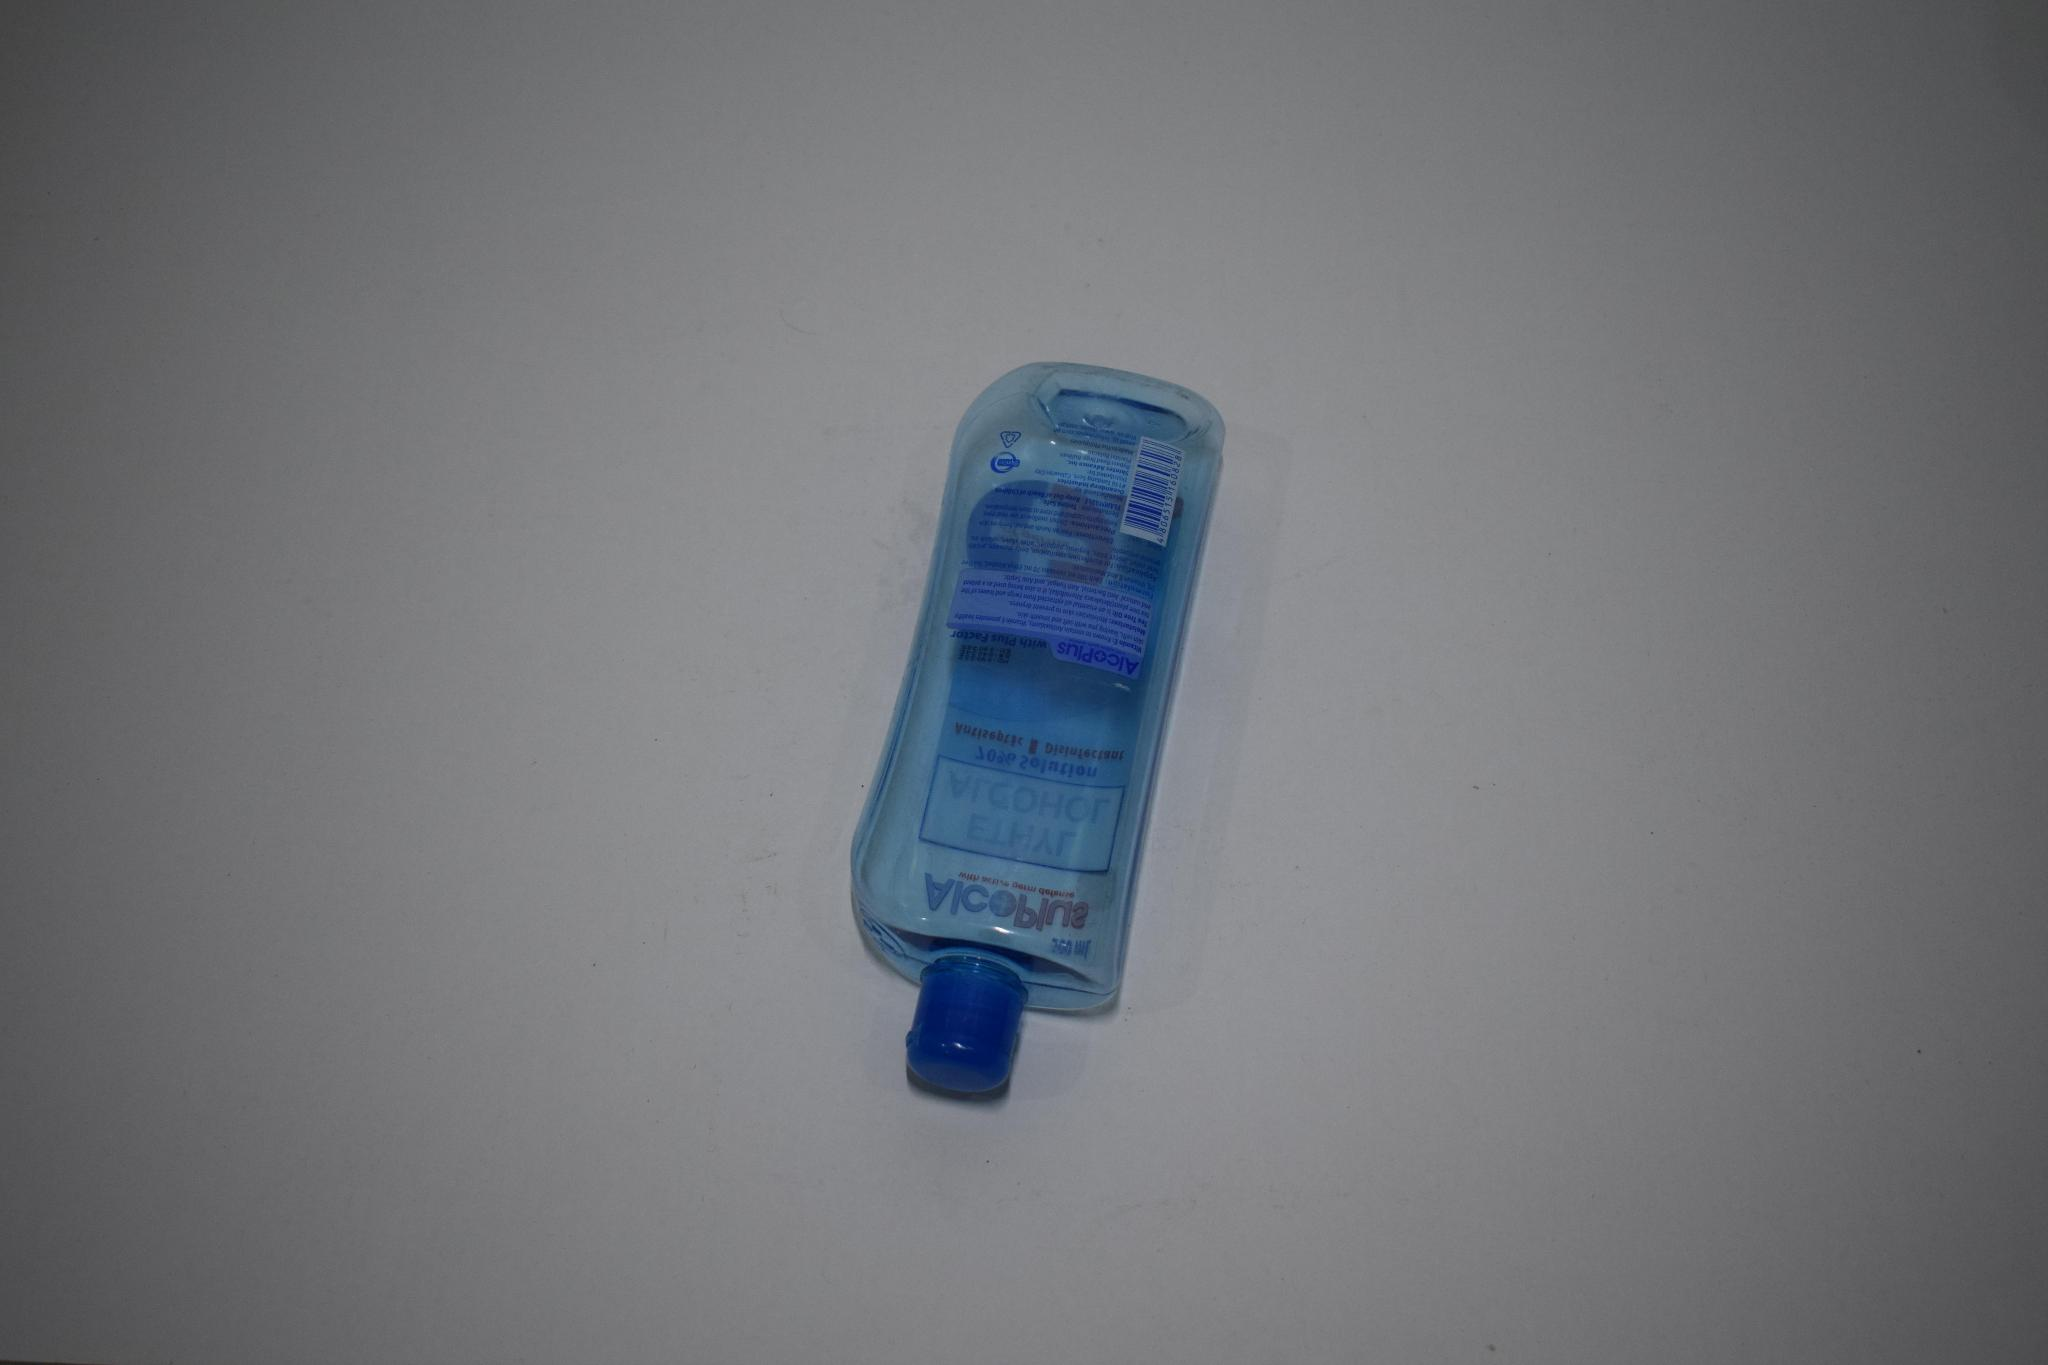bottle: (833, 340, 1239, 1112)
